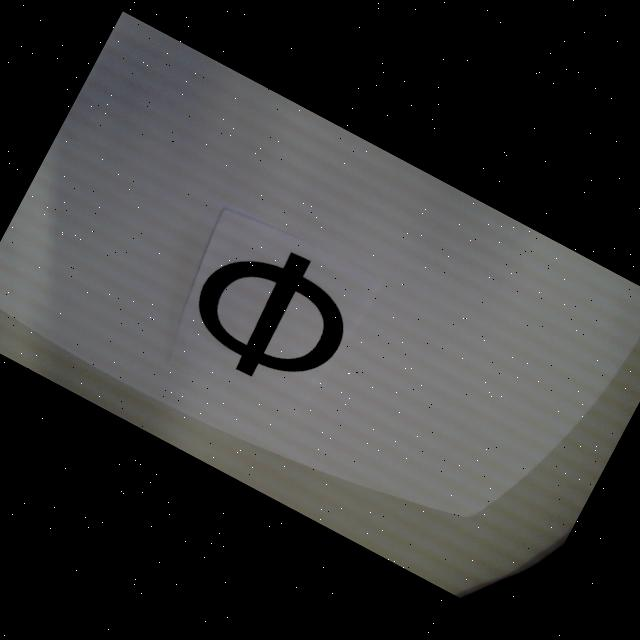PHI: (175, 220, 368, 407)
